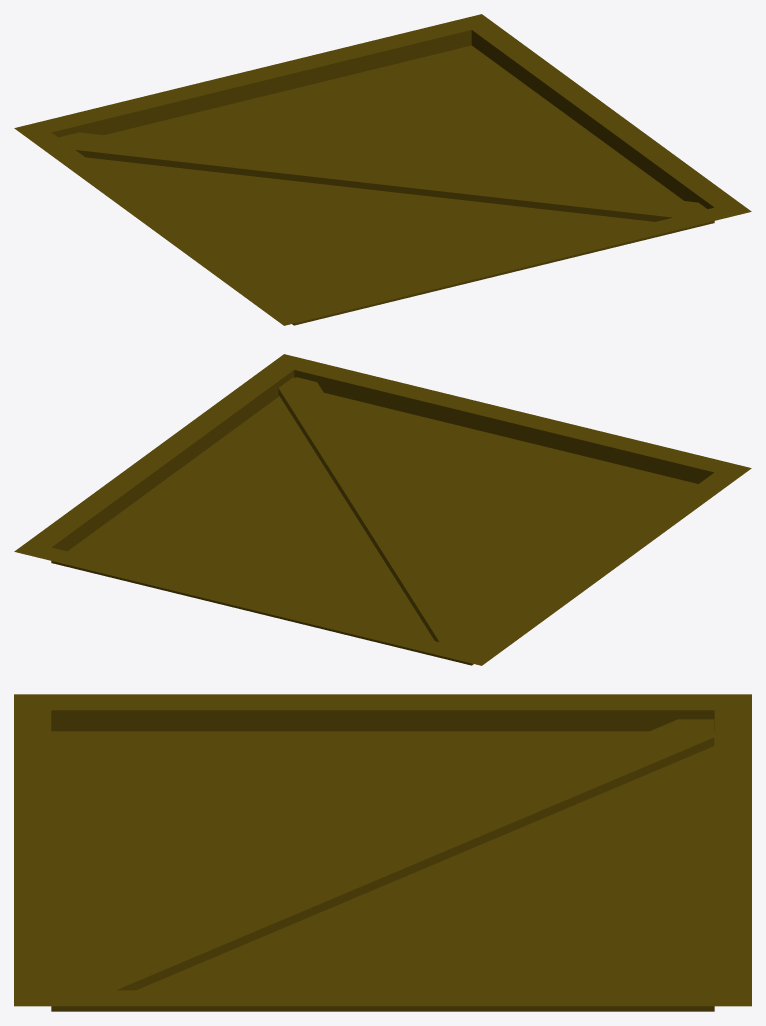
The model's file is Crate_Couvercle 1.fbx.
3 renders of one model, top to bottom at view 1: azimuth 30°, elevation 25°; view 2: azimuth 150°, elevation 25°; view 3: azimuth 270°, elevation 25°, orthographic. The views are drawn at different scales.
Parts seen in each view (by area): view 1: Boite_Couvercle; view 2: Boite_Couvercle; view 3: Boite_Couvercle.
Boxes of the visible parts, x1,y1,x2,y2 form: Boite_Couvercle: (14, 14, 751, 325); Boite_Couvercle: (14, 354, 751, 665); Boite_Couvercle: (14, 694, 751, 1011).
Bounding box in the file's own units: 200 × 6.35 × 200.
